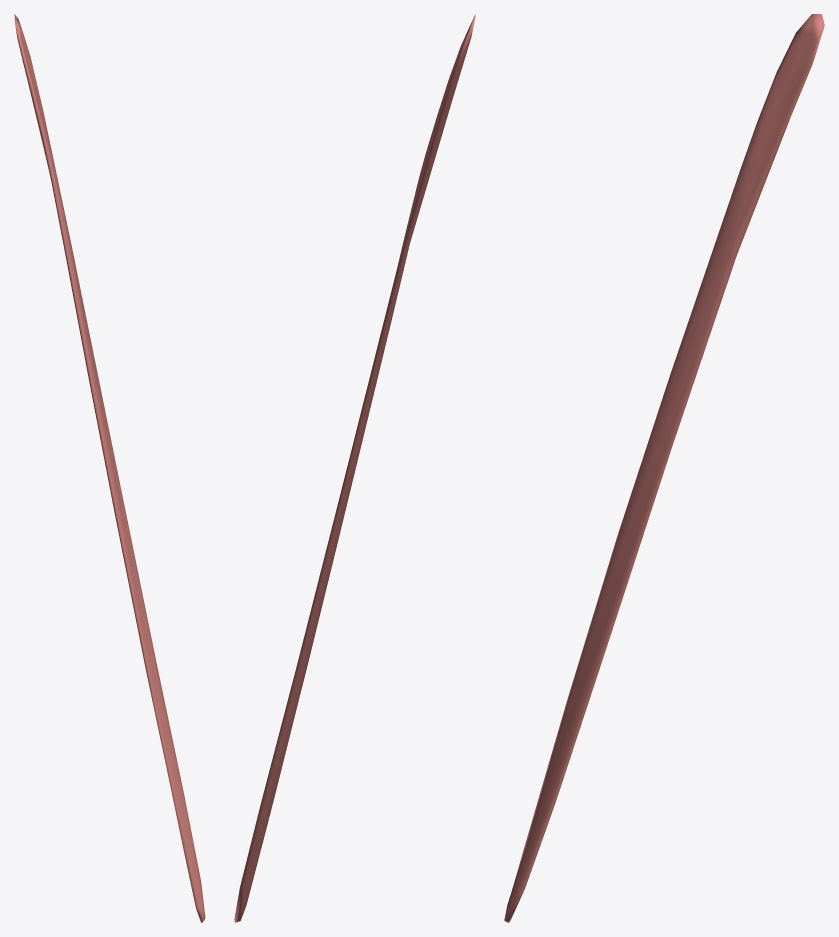
The picture shows the model from 3 angles, left to right: view 1: azimuth 30°, elevation 25°; view 2: azimuth 210°, elevation 25°; view 3: azimuth 270°, elevation 25°; orthographic projection. The views are drawn at different scales.
Visible parts, largest first — view 1: ZA_fbbc5dcc73ca599c; view 2: ZA_fbbc5dcc73ca599c; view 3: ZA_fbbc5dcc73ca599c.
Boxes of the visible parts, x1,y1,x2,y2 form: ZA_fbbc5dcc73ca599c: (14,14,205,922); ZA_fbbc5dcc73ca599c: (234,14,475,922); ZA_fbbc5dcc73ca599c: (504,14,824,922).
Bounding box in the file's own units: 0.00561 × 0.0781 × 0.0256.
